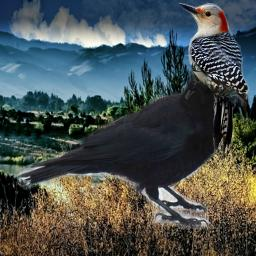Crow: (17, 66, 238, 229)
Woodpecker: (179, 3, 249, 152)
